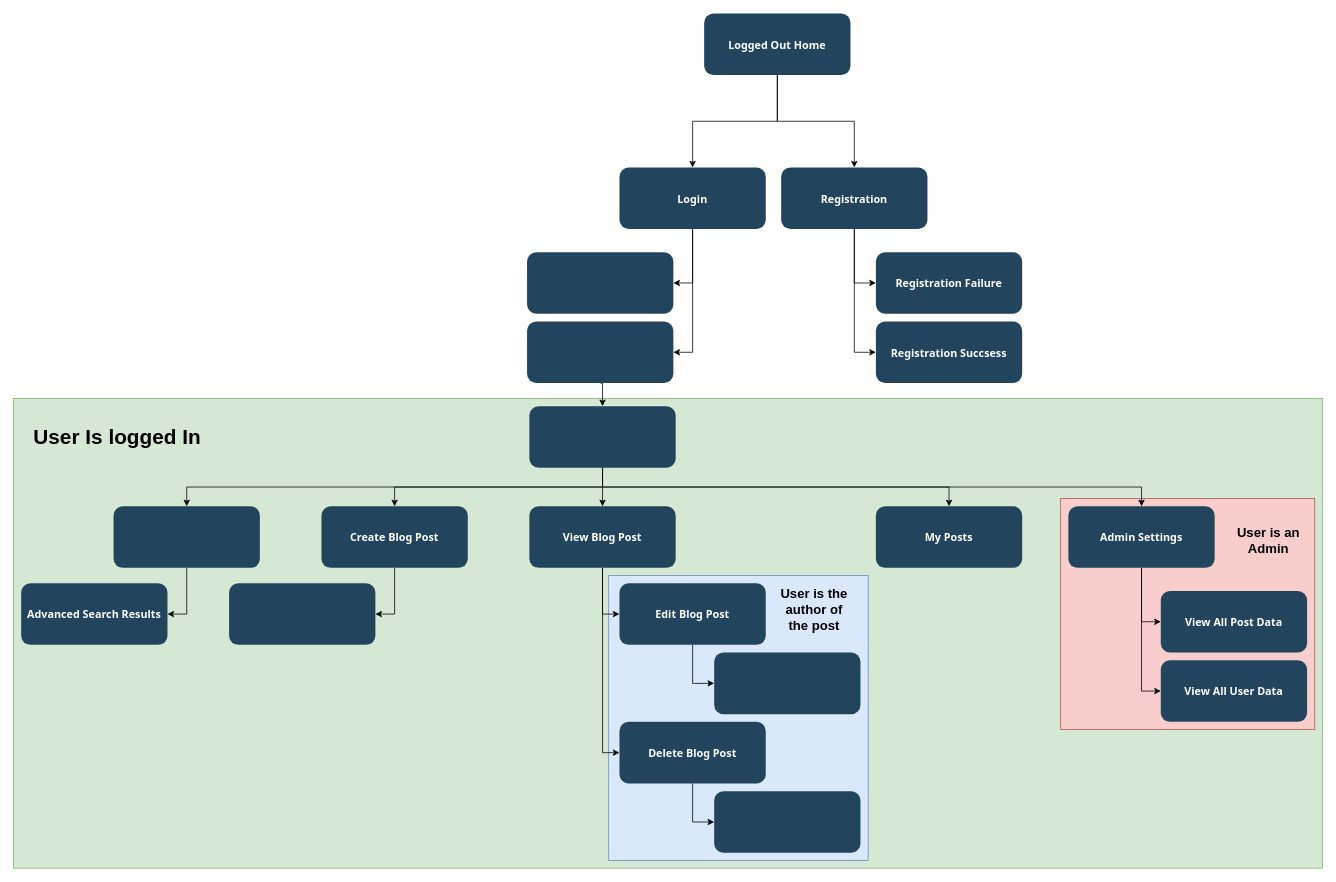
Some shapes in this 1336 by 882 pixel diagram are drawn without their labels. The shapes that lost their labels are listed below. From the top down, each one's centre as x and y in pixels, then its label:
At [600,282]: "Login Failure".
At [600,352]: "Login Succsess".
At [602,436]: "Logged in Home".
At [186,536]: "Search Results".
At [302,613]: "Blog Post Created or Failed".
At [787,683]: "Edit Blog Post Response".
At [787,821]: "Delete Blog Post Response".
